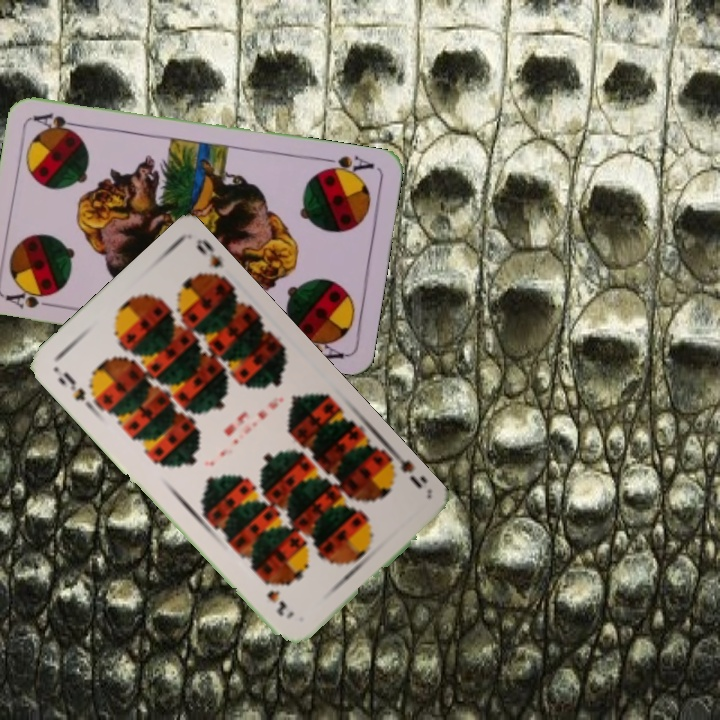S9: (53, 367, 100, 413), (380, 447, 426, 492)
SA: (317, 151, 377, 180), (3, 286, 62, 312)
